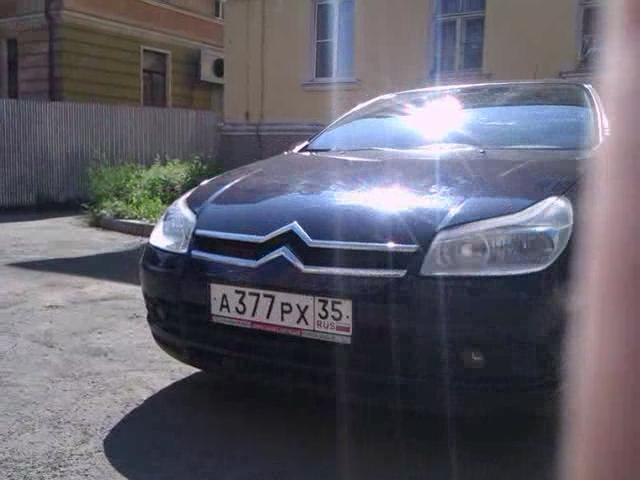car license plate: (206, 278, 355, 348)
